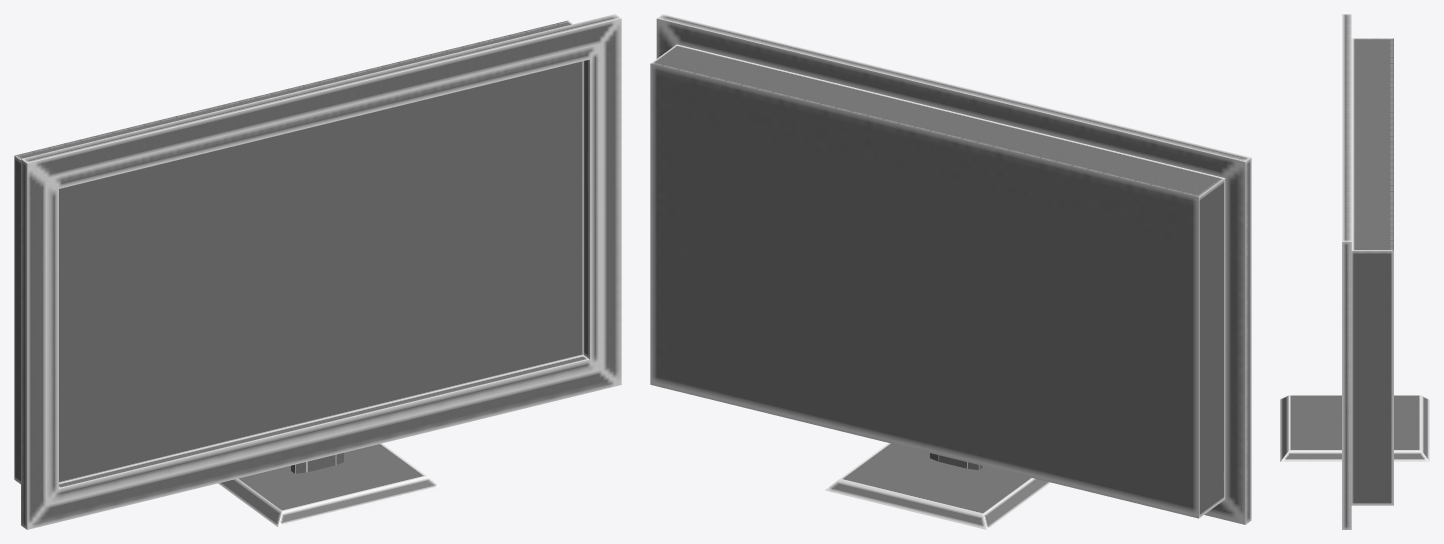
File: TVUnwrapped.fbx
3 views of the same model, side by side, from view 1: azimuth 30°, elevation 25°; view 2: azimuth 150°, elevation 25°; view 3: azimuth 270°, elevation 25° (orthographic). The views are drawn at different scales.
Visible parts, largest first — view 1: Cube, Cube_1; view 2: Cube, Cube_1; view 3: Cube, Cube_1.
Part boxes in pixels (left/top/right/bottom): Cube: left=14, top=14, right=621, bottom=529; Cube_1: left=218, top=443, right=441, bottom=527; Cube: left=650, top=14, right=1251, bottom=524; Cube_1: left=825, top=443, right=1050, bottom=529; Cube: left=1342, top=14, right=1393, bottom=529; Cube_1: left=1280, top=395, right=1429, bottom=461.
Size of the model in its own units: 103 by 64.03 by 28.45.
Materials: 1 (1 with a texture image).
